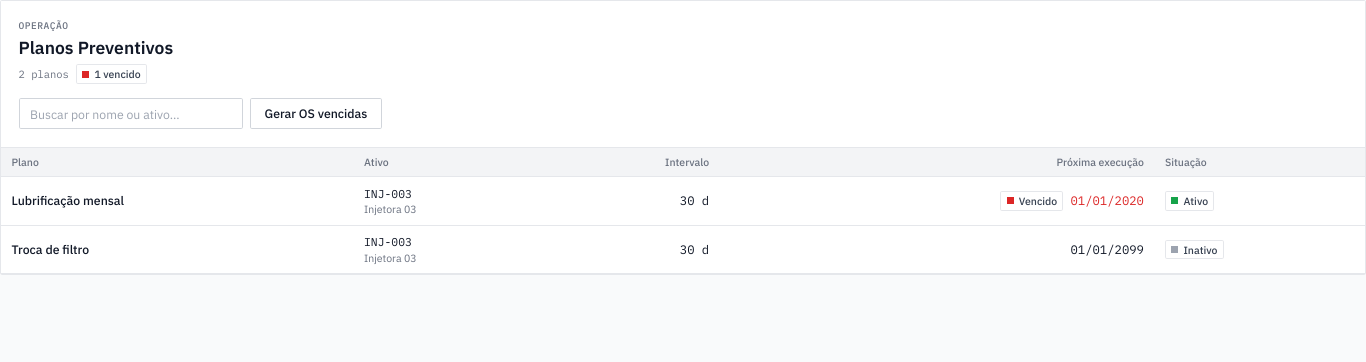
Test: PreventivePlansListPage › deve gerar as OS vencidas e informar geradas e puladas
Expected: the text "Lubrificação mensal" is shown, left=12, top=192, right=124, bottom=208
Click the button "Gerar OS vencidas" at (316, 114), box left=250, top=98, right=382, bottom=129
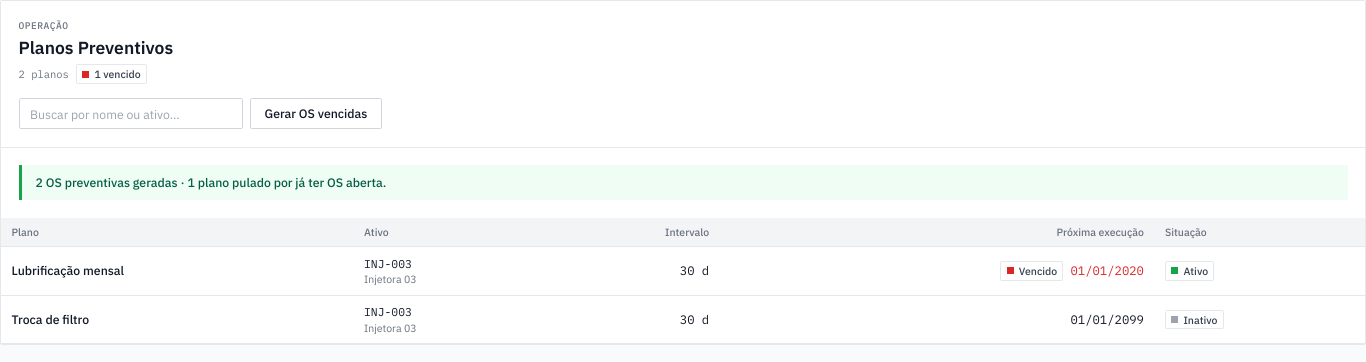
Expected: the message reads "2 OS preventivas geradas · 1 plano pulado por já ter OS aberta.", left=36, top=174, right=386, bottom=190
